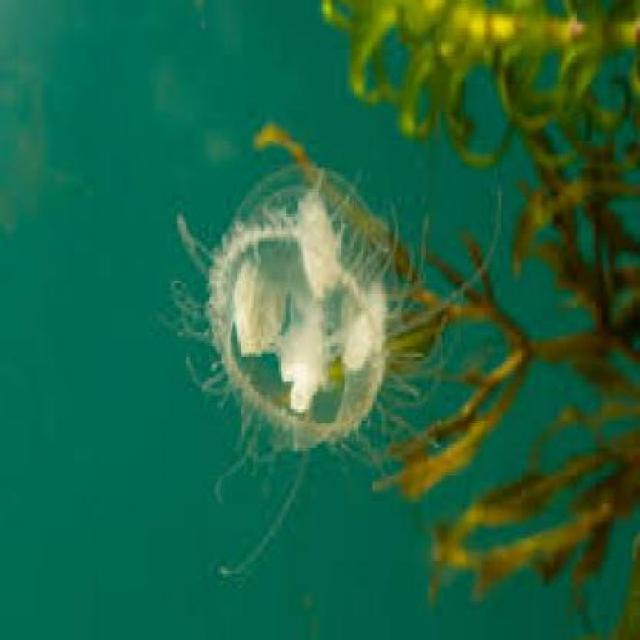Jellyfish: (165, 165, 508, 578)
